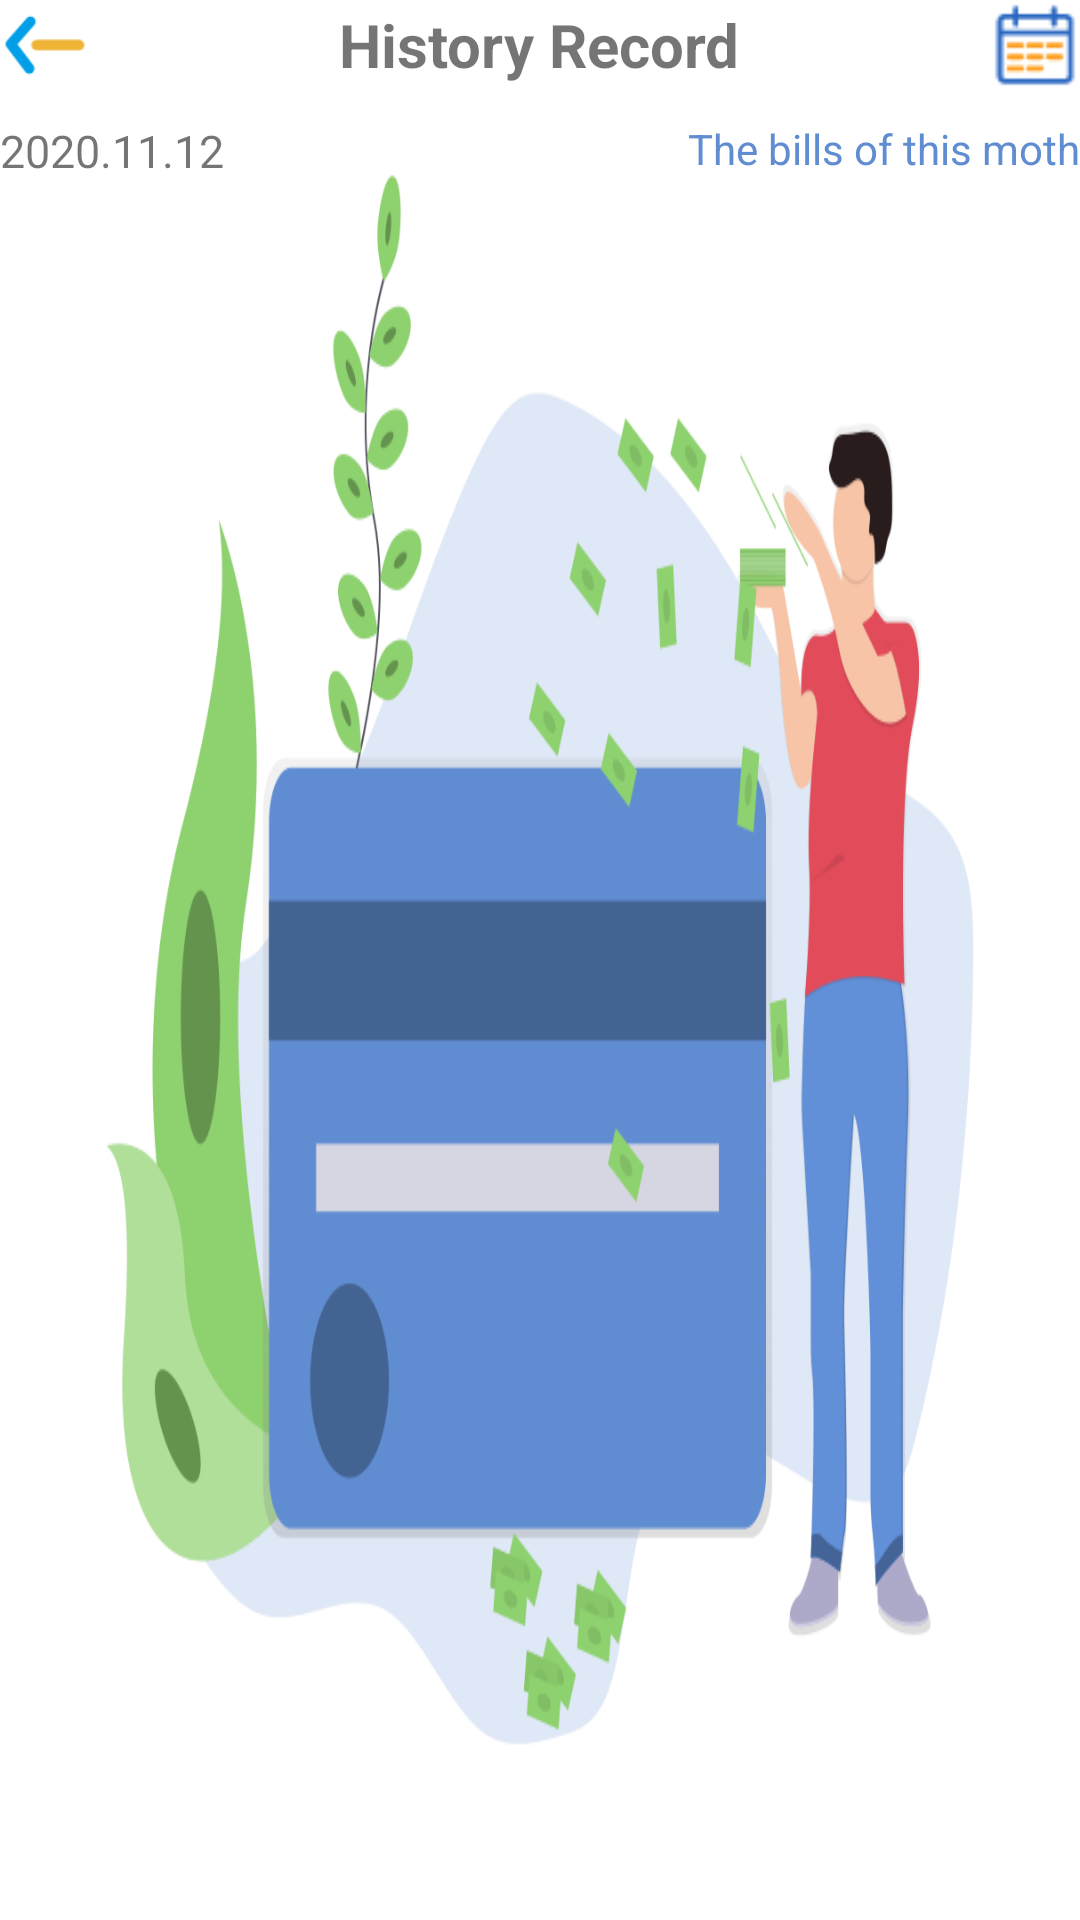

Icon click points for this 1080*1920 phone screenshot, format (x=x, y=y):
calendar: (x=1035, y=45)
